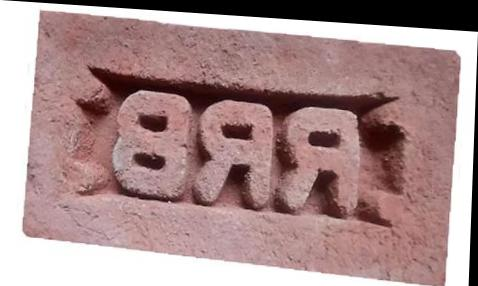brick: (21, 8, 464, 286)
